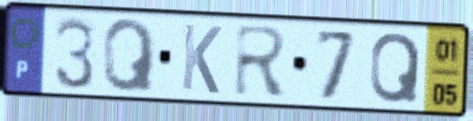3: (52, 13, 96, 92)
7: (313, 28, 360, 103)
K: (179, 20, 224, 97)
Q: (101, 16, 159, 95), (367, 30, 423, 106)
R: (232, 22, 291, 99)
